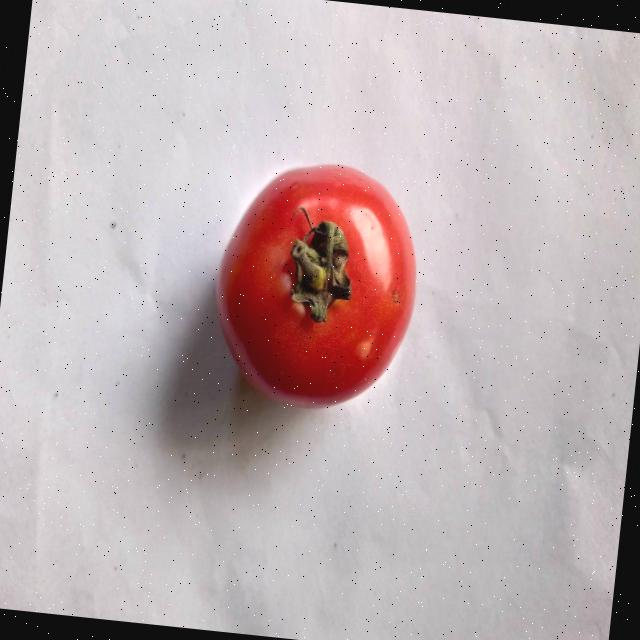Tomato: (204, 148, 433, 422)
